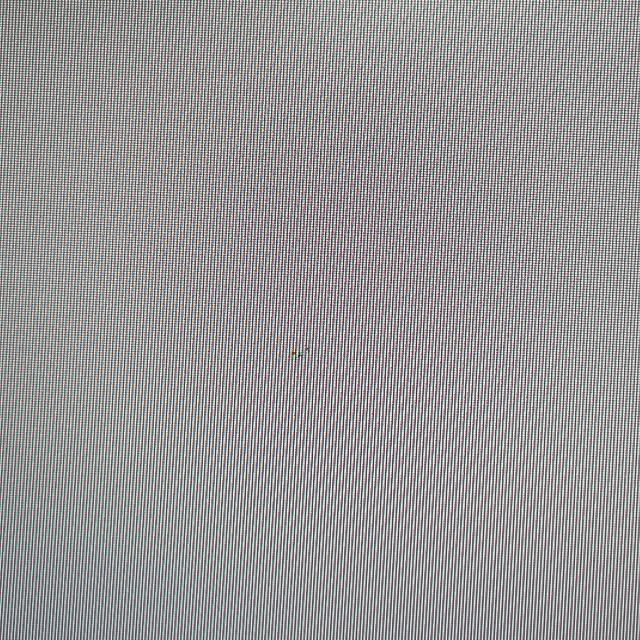Dead pixel: (298, 354, 303, 358), (306, 349, 311, 353), (291, 351, 297, 354)
